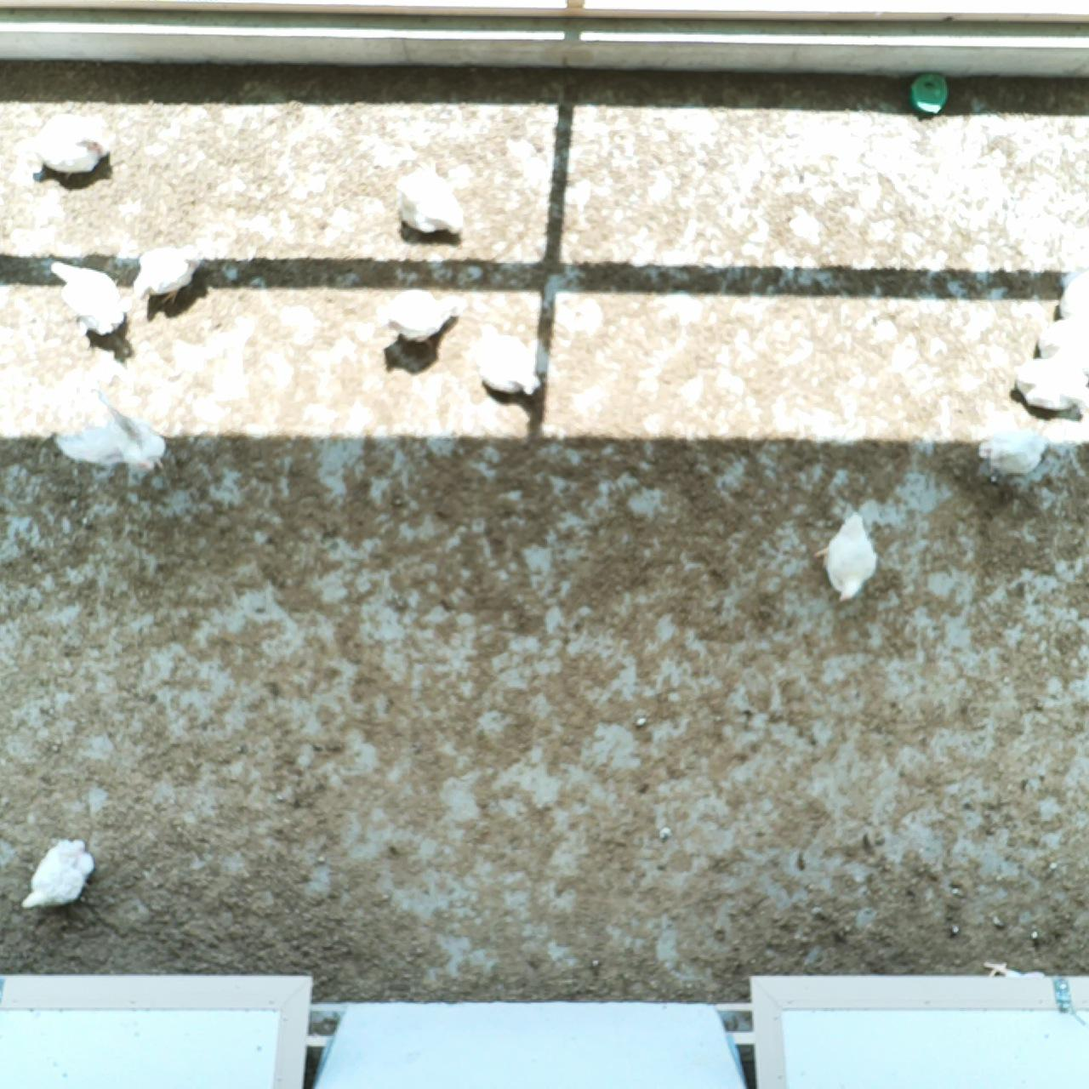chicken: (53, 383, 175, 480), (12, 110, 117, 183), (811, 508, 882, 606), (17, 833, 97, 917), (466, 318, 543, 403), (48, 259, 129, 339), (392, 160, 467, 242), (372, 285, 465, 349), (1008, 350, 1089, 419), (131, 244, 205, 309), (972, 423, 1050, 480), (1032, 315, 1089, 376), (1050, 266, 1089, 317)
